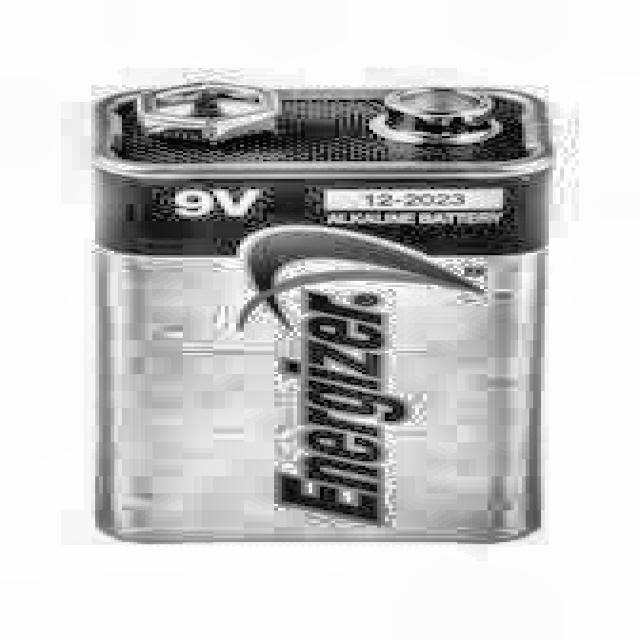Battery: (103, 87, 545, 544)
